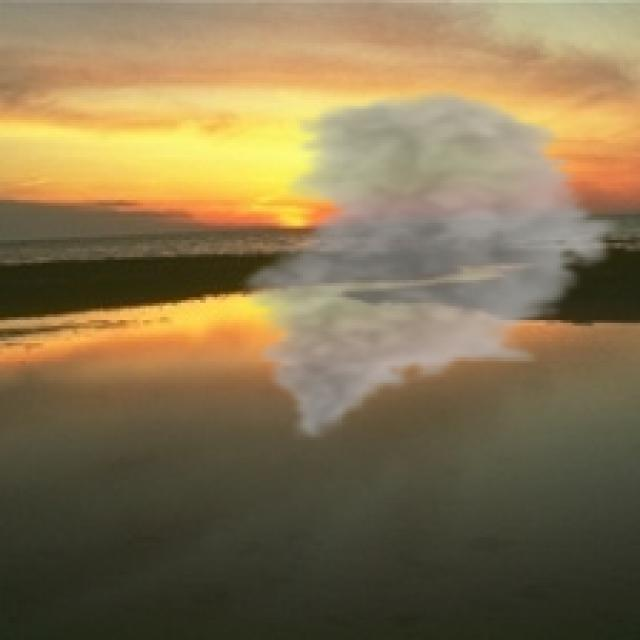smoke: (231, 86, 626, 443)
